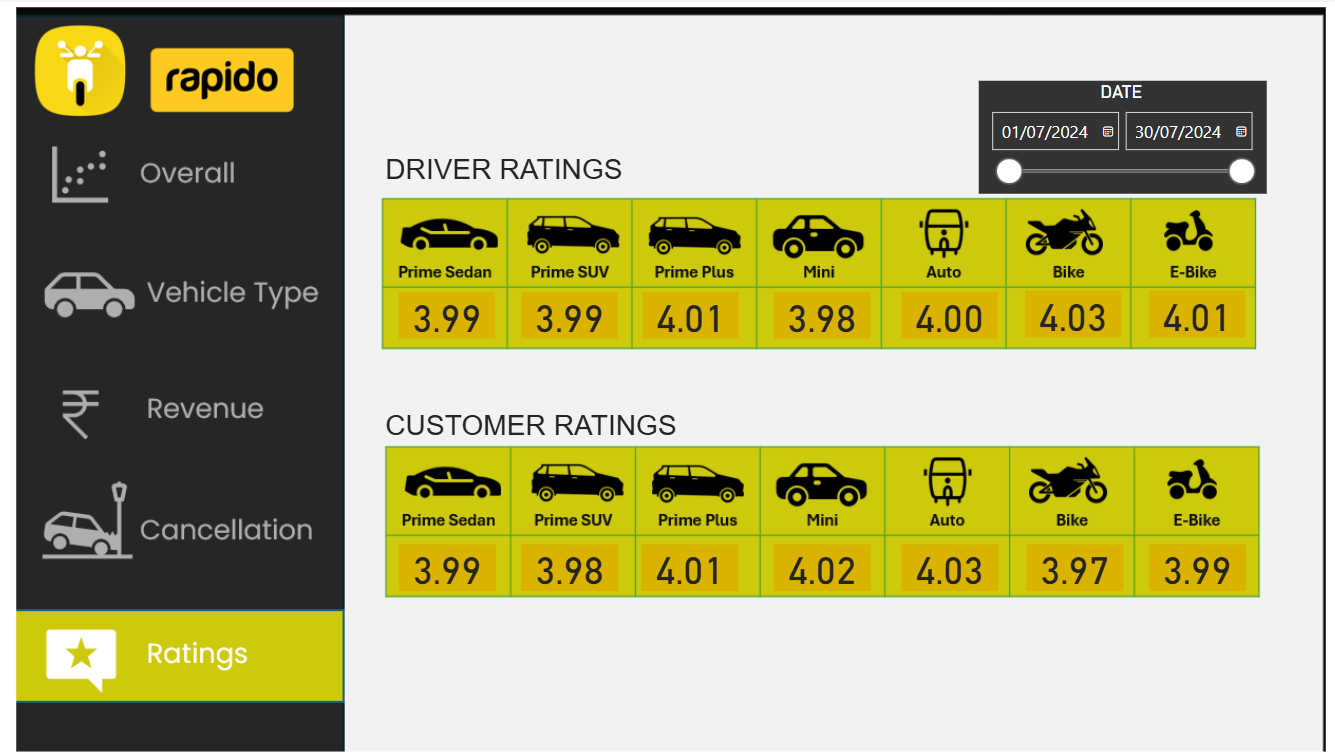

What the dashboard file says about the page in this screenshot:
{"tool":"powerbi","page":{"name":"RATINGS","canvas":[1280,720],"ordinal":4},"visuals":[{"type":"actionButton","box":[20.5,121.9,310.1,88.1],"z":0},{"type":"card","fields":{"Values":["Avg(Bengaluru_Bookings_10k.Driver_Ratings)"]},"box":[382.9,274.3,91.4,44.3],"z":1000},{"type":"card","fields":{"Values":["Avg(Bengaluru_Bookings_10k.Driver_Ratings)"]},"box":[498.6,274.3,91.4,44.3],"z":2000},{"type":"card","fields":{"Values":["Avg(Bengaluru_Bookings_10k.Driver_Ratings)"]},"box":[612.9,274.3,91.4,44.3],"z":3000},{"type":"card","fields":{"Values":["Avg(Bengaluru_Bookings_10k.Driver_Ratings)"]},"box":[737.1,274.3,91.4,44.3],"z":4000},{"type":"card","fields":{"Values":["Avg(Bengaluru_Bookings_10k.Driver_Ratings)"]},"box":[858.6,274.3,91.4,44.3],"z":5000},{"type":"card","fields":{"Values":["Avg(Bengaluru_Bookings_10k.Driver_Ratings)"]},"box":[975.7,272.9,91.4,44.3],"z":6000},{"type":"card","fields":{"Values":["Avg(Bengaluru_Bookings_10k.Driver_Ratings)"]},"box":[1092.9,272.9,91.4,44.3],"z":7000},{"type":"textbox","box":[364.1,139.1,248.4,42.2],"z":8000},{"type":"textbox","box":[364.1,381.2,329.7,40.6],"z":9000},{"type":"card","fields":{"Values":["Avg(Bengaluru_Bookings_10k.Customer_Rating)"]},"box":[382.8,514.1,92.2,43.8],"z":10000},{"type":"card","fields":{"Values":["Avg(Bengaluru_Bookings_10k.Customer_Rating)"]},"box":[498.4,514.1,92.2,43.8],"z":11000},{"type":"card","fields":{"Values":["Avg(Bengaluru_Bookings_10k.Customer_Rating)"]},"box":[612.5,514.1,92.2,43.8],"z":12000},{"type":"card","fields":{"Values":["Avg(Bengaluru_Bookings_10k.Customer_Rating)"]},"box":[737.5,514.1,92.2,43.8],"z":13000},{"type":"card","fields":{"Values":["Avg(Bengaluru_Bookings_10k.Customer_Rating)"]},"box":[857.8,514.1,92.2,43.8],"z":14000},{"type":"card","fields":{"Values":["Avg(Bengaluru_Bookings_10k.Customer_Rating)"]},"box":[976.6,514.1,92.2,43.8],"z":15000},{"type":"card","fields":{"Values":["Avg(Bengaluru_Bookings_10k.Customer_Rating)"]},"box":[1092.2,514.1,92.2,43.8],"z":15001},{"type":"slicer","title":"DATE","fields":{"Values":["Bengaluru_Bookings_10k.Date"]},"box":[931.2,75,271.9,106.2],"z":15002}]}

Visuals, with their boxes in screenshot pixels (x1, y1, x2, y2), scaled from the page's 1280x720 canvas onto the 1335x756 screenshot:
actionButton: {"x1": 21, "y1": 128, "x2": 345, "y2": 220}
card - Avg(Bengaluru_Bookings_10k.Driver_Ratings): {"x1": 399, "y1": 288, "x2": 495, "y2": 335}
card - Avg(Bengaluru_Bookings_10k.Driver_Ratings): {"x1": 520, "y1": 288, "x2": 615, "y2": 335}
card - Avg(Bengaluru_Bookings_10k.Driver_Ratings): {"x1": 639, "y1": 288, "x2": 735, "y2": 335}
card - Avg(Bengaluru_Bookings_10k.Driver_Ratings): {"x1": 769, "y1": 288, "x2": 864, "y2": 335}
card - Avg(Bengaluru_Bookings_10k.Driver_Ratings): {"x1": 895, "y1": 288, "x2": 991, "y2": 335}
card - Avg(Bengaluru_Bookings_10k.Driver_Ratings): {"x1": 1018, "y1": 287, "x2": 1113, "y2": 333}
card - Avg(Bengaluru_Bookings_10k.Driver_Ratings): {"x1": 1140, "y1": 287, "x2": 1235, "y2": 333}
textbox: {"x1": 380, "y1": 146, "x2": 639, "y2": 190}
textbox: {"x1": 380, "y1": 400, "x2": 724, "y2": 443}
card - Avg(Bengaluru_Bookings_10k.Customer_Rating): {"x1": 399, "y1": 540, "x2": 495, "y2": 586}
card - Avg(Bengaluru_Bookings_10k.Customer_Rating): {"x1": 520, "y1": 540, "x2": 616, "y2": 586}
card - Avg(Bengaluru_Bookings_10k.Customer_Rating): {"x1": 639, "y1": 540, "x2": 735, "y2": 586}
card - Avg(Bengaluru_Bookings_10k.Customer_Rating): {"x1": 769, "y1": 540, "x2": 865, "y2": 586}
card - Avg(Bengaluru_Bookings_10k.Customer_Rating): {"x1": 895, "y1": 540, "x2": 991, "y2": 586}
card - Avg(Bengaluru_Bookings_10k.Customer_Rating): {"x1": 1019, "y1": 540, "x2": 1115, "y2": 586}
card - Avg(Bengaluru_Bookings_10k.Customer_Rating): {"x1": 1139, "y1": 540, "x2": 1235, "y2": 586}
"DATE" slicer: {"x1": 971, "y1": 79, "x2": 1255, "y2": 190}
